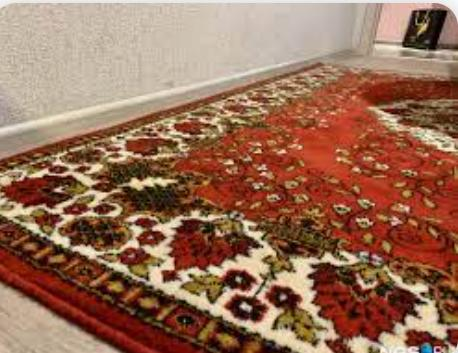carpet: (0, 64, 458, 351)
